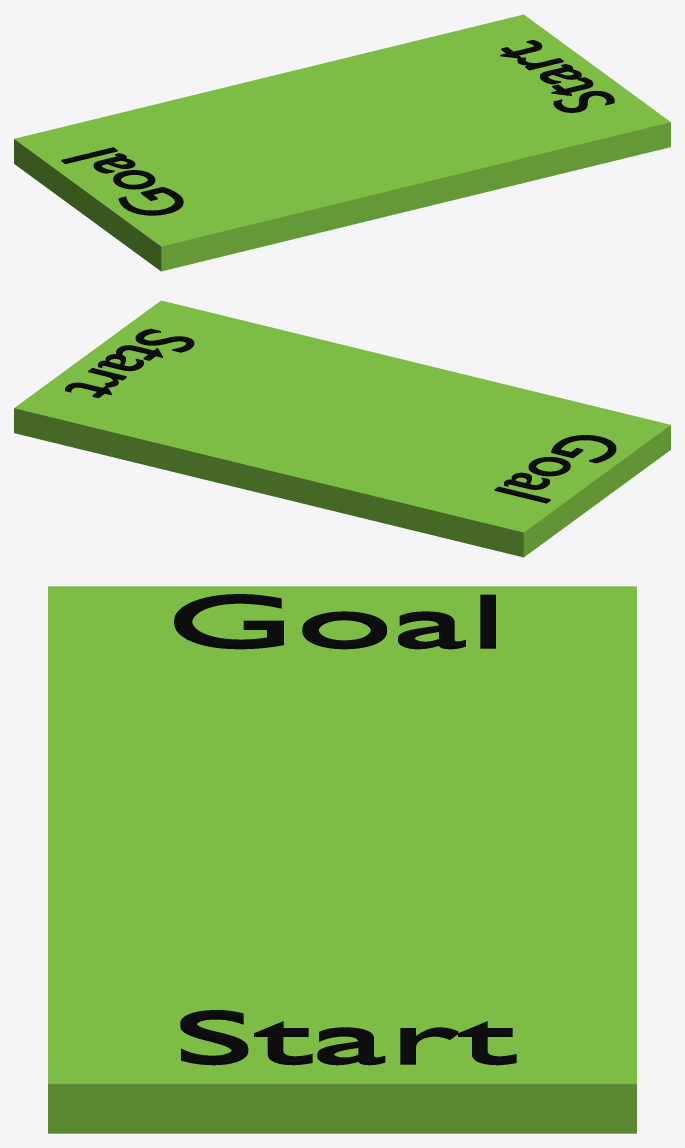
Rendered from racetrack.fbx.
3 views of the same model, one above another, from view 1: azimuth 30°, elevation 25°; view 2: azimuth 150°, elevation 25°; view 3: azimuth 270°, elevation 25° (orthographic). The views are drawn at different scales.
Visible parts, largest first — view 1: Racetrack; view 2: Racetrack; view 3: Racetrack.
Part boxes in pixels (x1,y1,x2,y2): Racetrack: (14, 14, 670, 271); Racetrack: (14, 300, 670, 557); Racetrack: (48, 586, 636, 1133).
Size of the model in its own units: 2 by 0.1 by 1.
